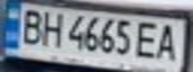4: (63, 12, 87, 52)
5: (115, 17, 136, 57)
6: (81, 15, 103, 53), (97, 16, 118, 55)
A: (154, 20, 184, 63)
B: (15, 6, 45, 46)
E: (133, 19, 163, 61)
H: (36, 8, 66, 48)
